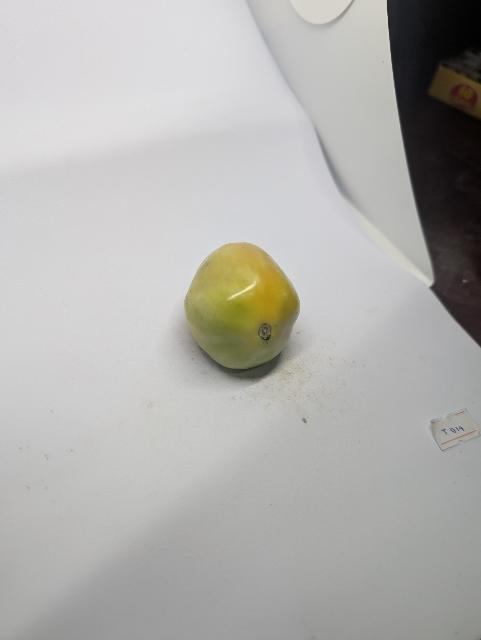breaker: (185, 243, 300, 369)
